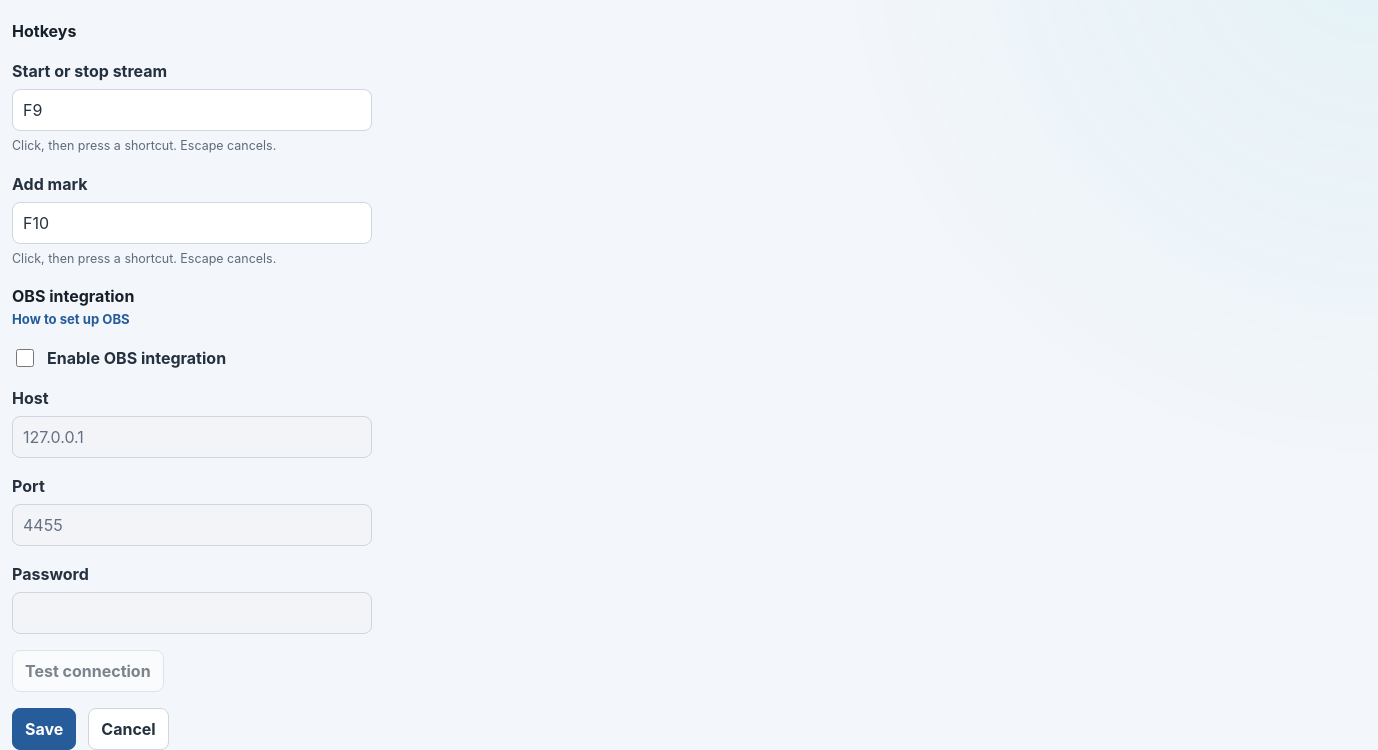
Test: SettingsView › saves OBS settings with success feedback
The image size is (1378, 750).
(page scrolled)
Click the button "Save" at (44, 729), box x1=12 y1=708 x2=76 y2=749
(page scrolled)
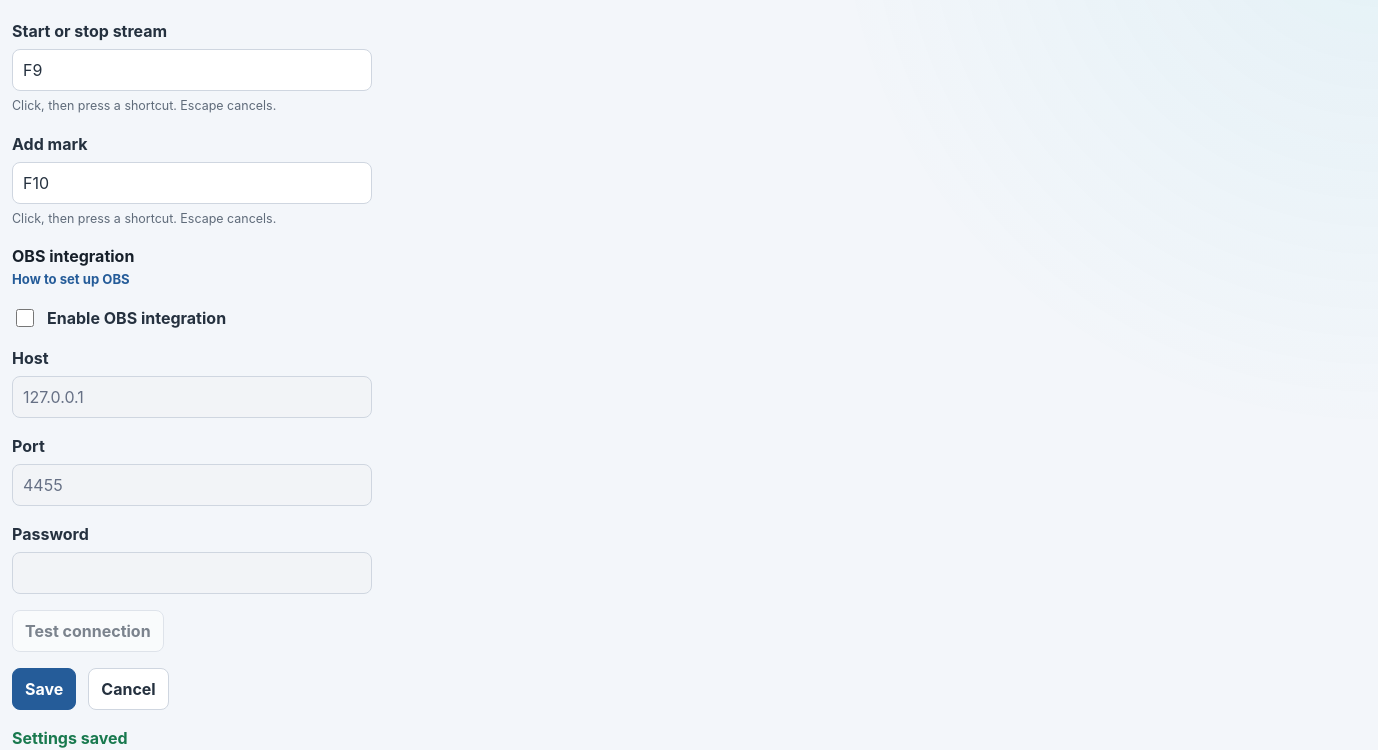
Now the text "Settings saved" is shown, box x1=12 y1=728 x2=128 y2=748
